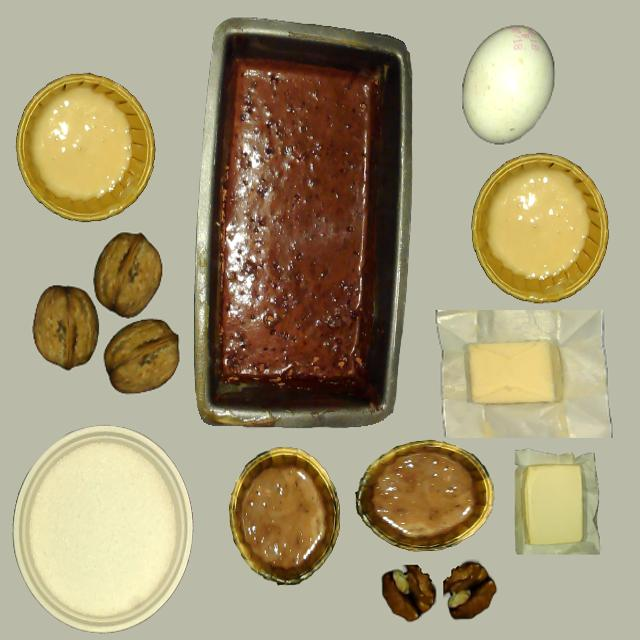Sugar: (26, 438, 177, 624)
Walnut: (94, 232, 162, 317), (33, 287, 100, 369), (103, 319, 178, 392)
